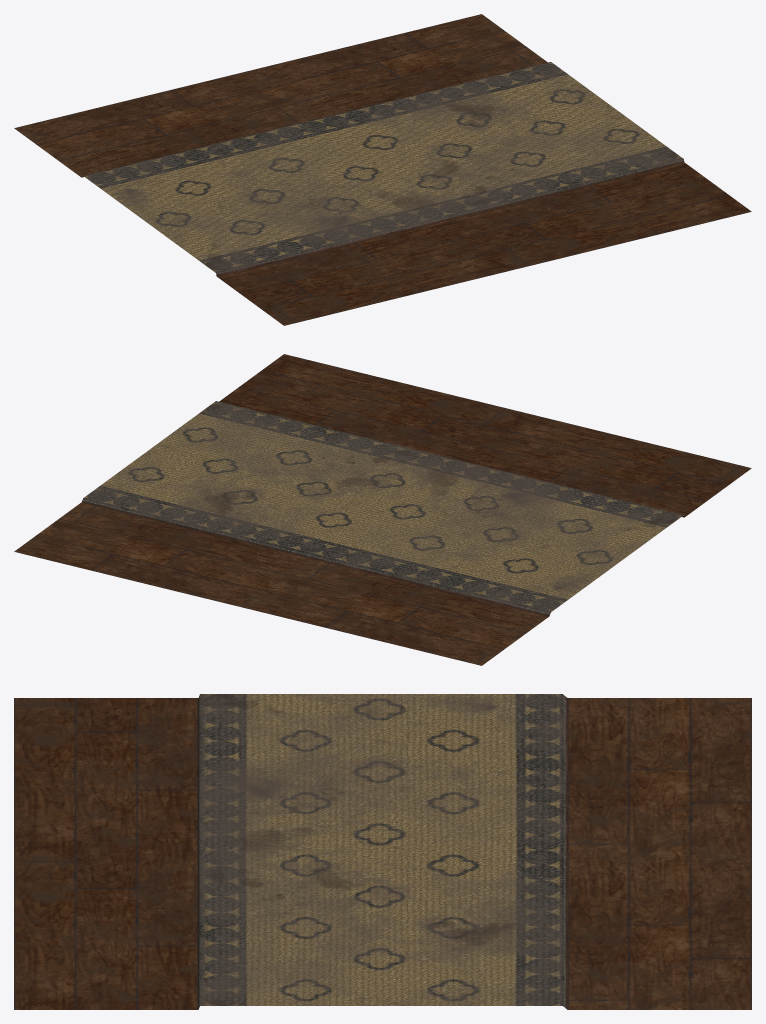
The model's file is SM_Floor_Carpet.fbx.
3 renders of one model, top to bottom at view 1: azimuth 30°, elevation 25°; view 2: azimuth 150°, elevation 25°; view 3: azimuth 270°, elevation 25°, orthographic. The views are drawn at different scales.
Visible parts, largest first — view 1: SM_Floor_Carpet; view 2: SM_Floor_Carpet; view 3: SM_Floor_Carpet.
Part boxes in pixels (x1,y1,x2,y2): SM_Floor_Carpet: (14, 14, 751, 325); SM_Floor_Carpet: (14, 354, 751, 665); SM_Floor_Carpet: (14, 694, 751, 1009).
Size of the model in its own units: 400 by 2.37 by 400.
